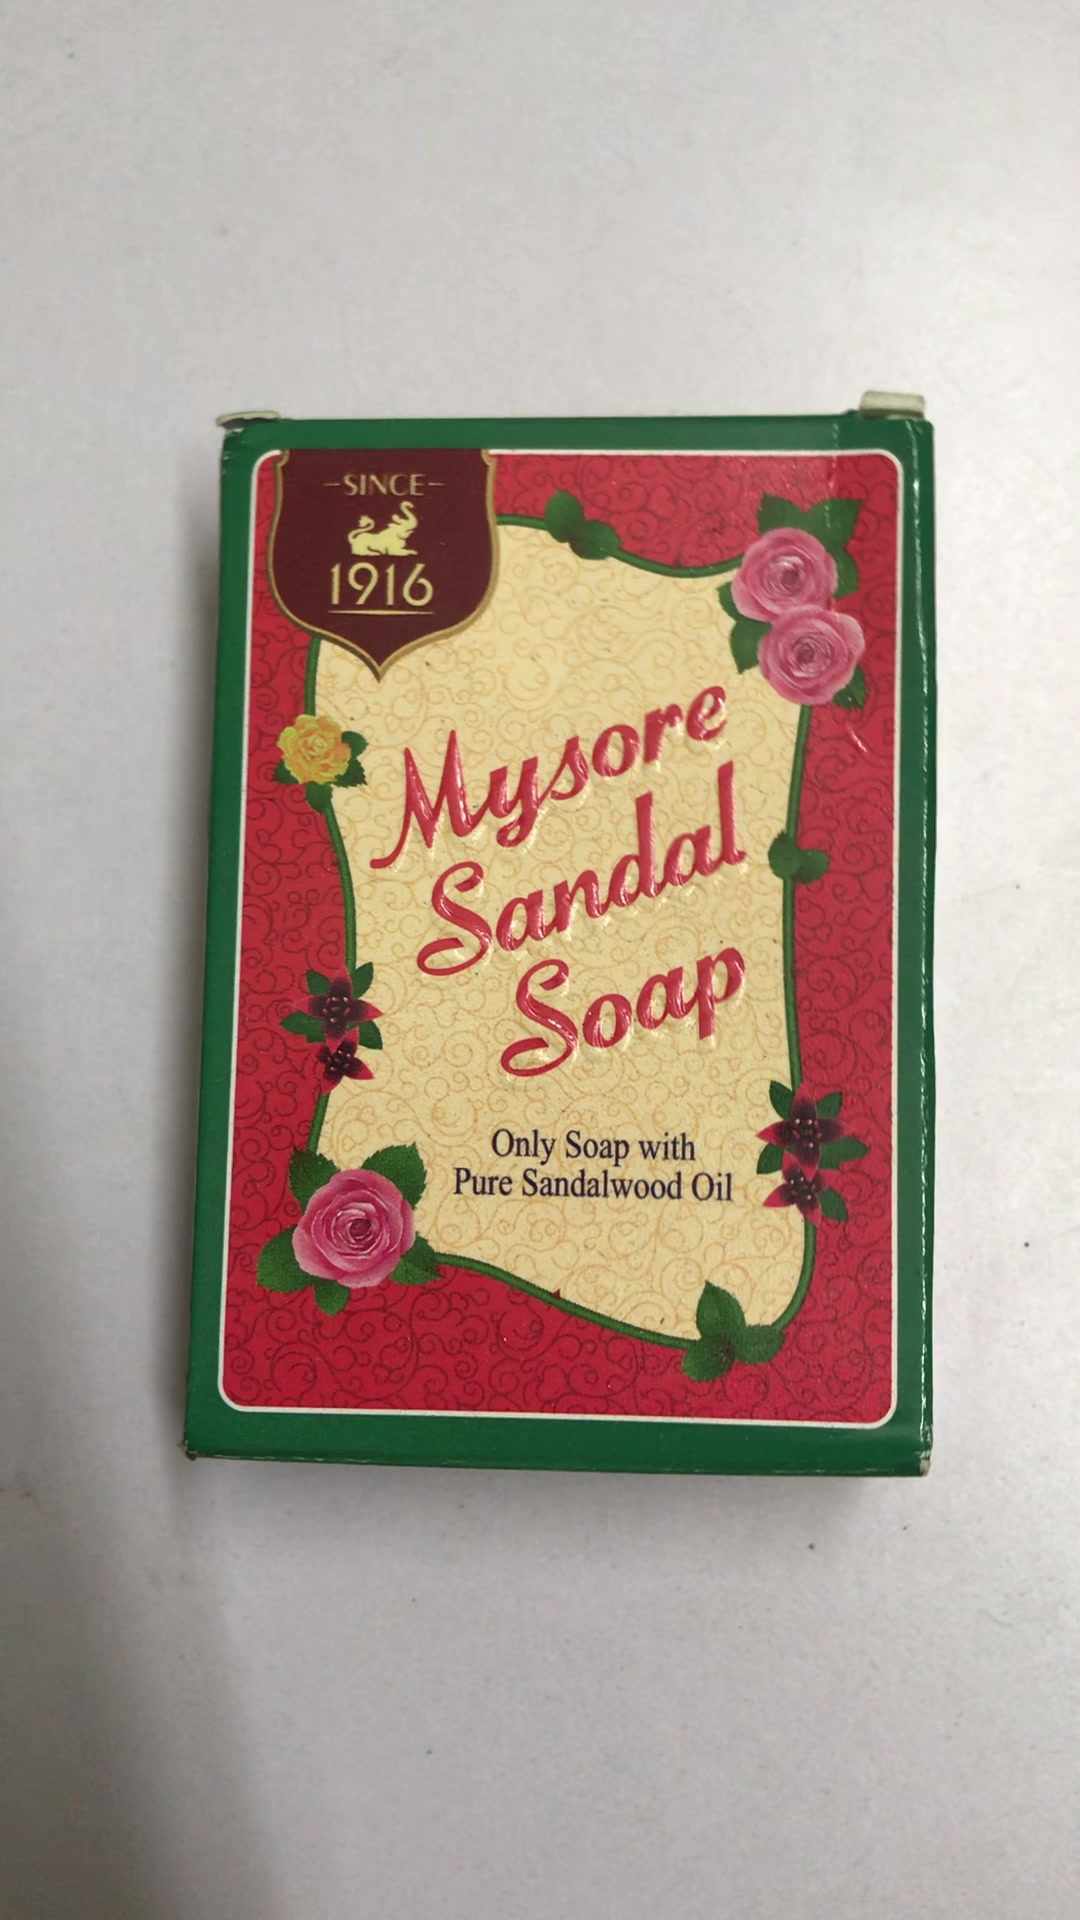mysore sandal soap: (185, 404, 934, 1481)
